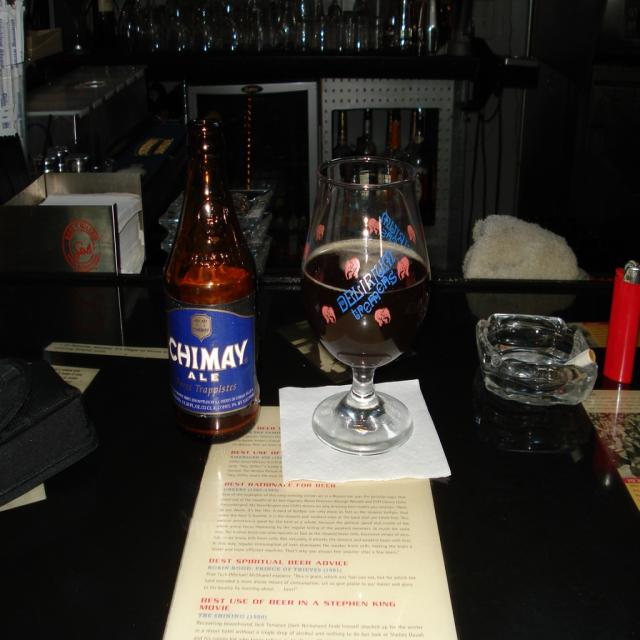chimay: (168, 307, 259, 416)
